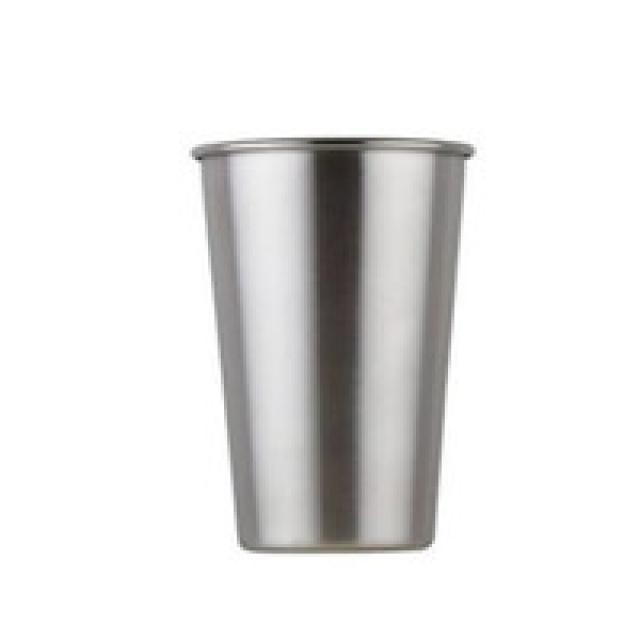Gelas: (172, 116, 507, 573)
